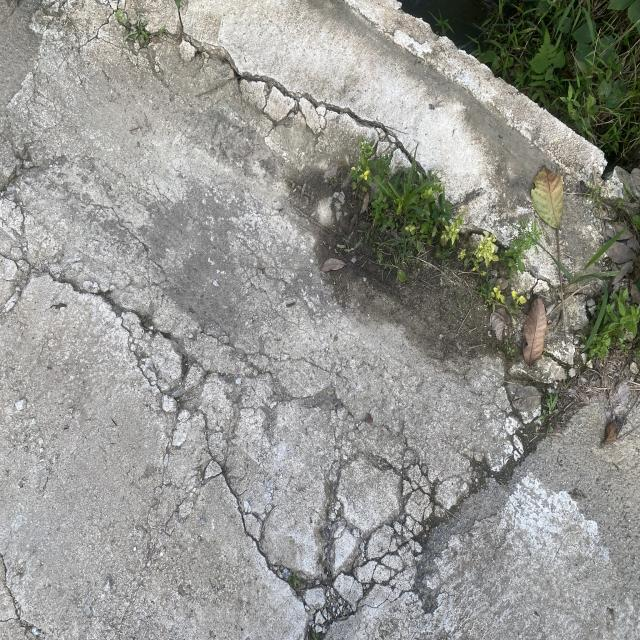pothole: (88, 256, 412, 640), (172, 5, 414, 198)
